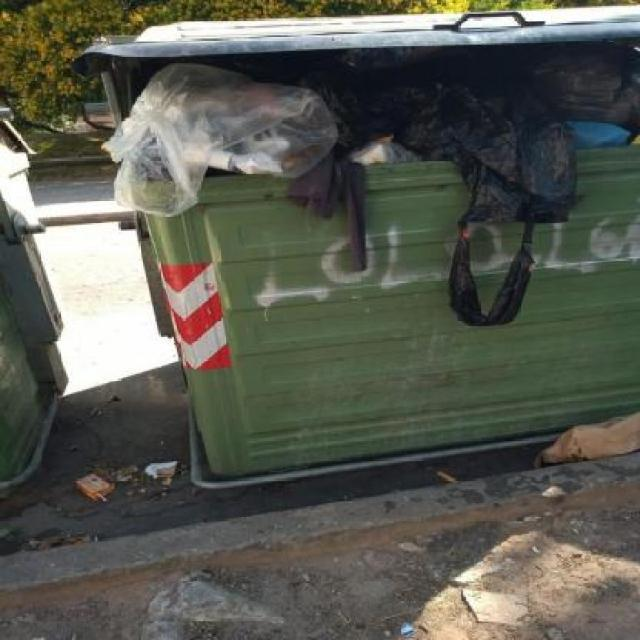garbage: (94, 59, 640, 304), (72, 454, 200, 520), (541, 410, 640, 463)
